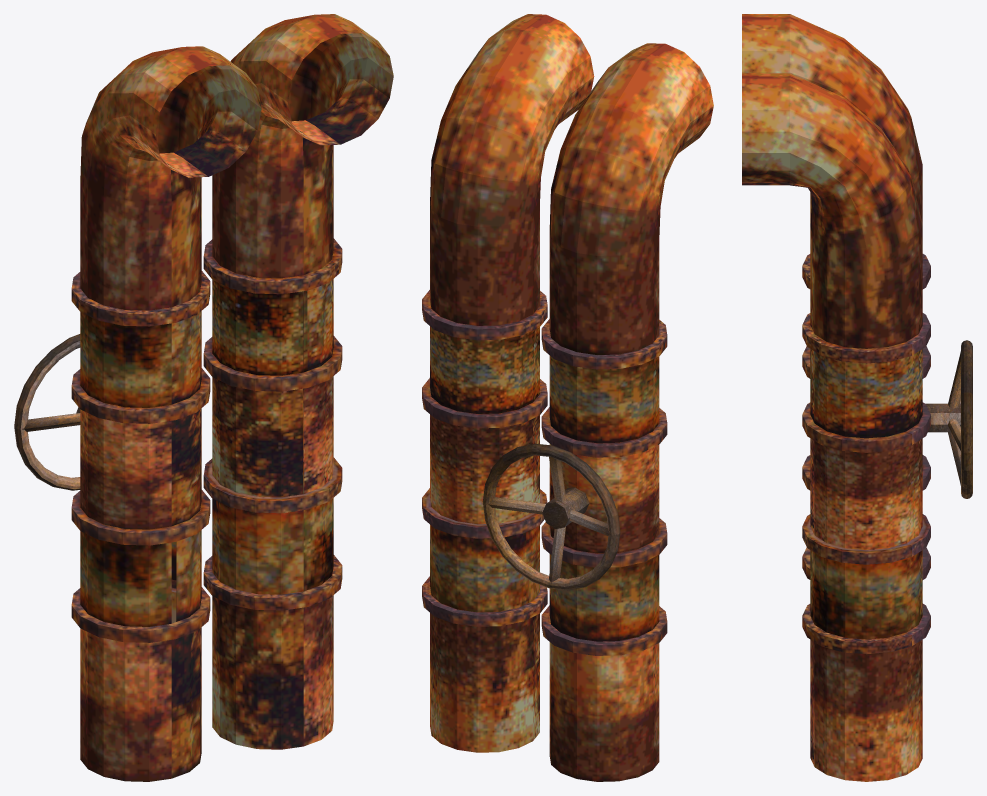
The model's file is Canos.fbx.
3 renders of one model, left to right at view 1: azimuth 30°, elevation 25°; view 2: azimuth 150°, elevation 25°; view 3: azimuth 270°, elevation 25°, orthographic. The views are drawn at different scales.
Parts seen in each view (by area): view 1: Torus.001; view 2: Torus.001; view 3: Torus.001.
Part boxes in pixels (x1=…): Torus.001: x1=14, y1=14, x2=393, y2=781; Torus.001: x1=422, y1=14, x2=713, y2=781; Torus.001: x1=742, y1=14, x2=972, y2=781.
Bounding box in the file's own units: 144 × 385 × 119.
1 material, 1 textured.
